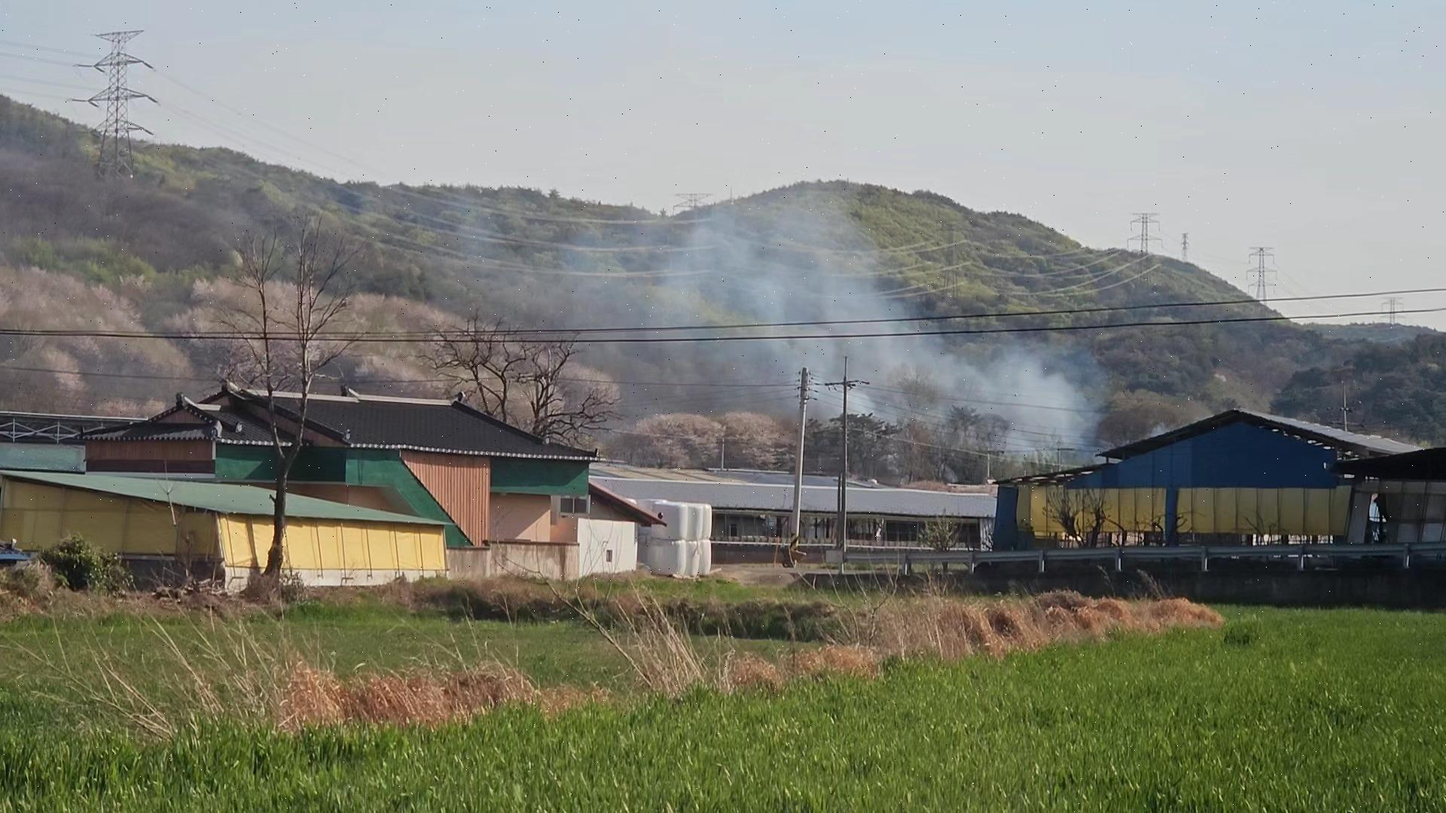smoke: (589, 188, 1108, 469)
